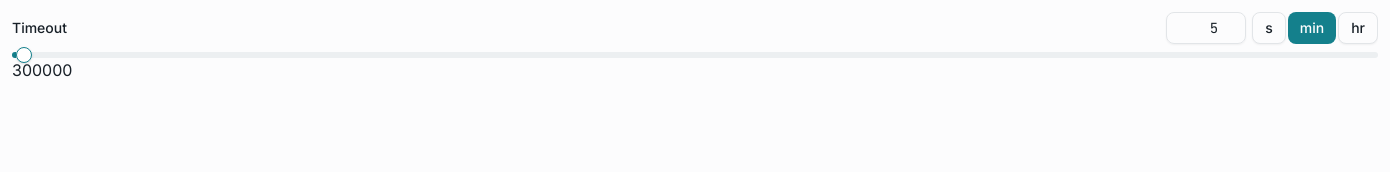
Scenario: DurationSliderField › opens a 5-minute value in minutes and converts when the unit changes
Check: the number field labelled "Timeout" holds "5", box [1166,12,1246,44]
Click the button named "Seconds": x=1269, y=28 [1252,12,1286,44]
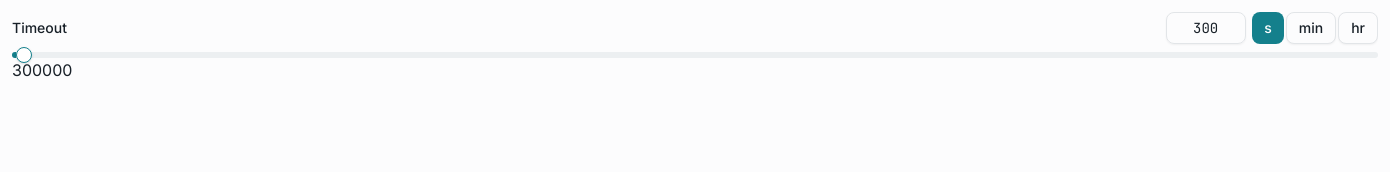
Check: the text "300000" is shown, box [12,60,72,80]
Check: the number field labelled "Timeout" holds "300", box [1166,12,1246,44]
Click the button with aria-label "Hours": x=1358, y=28 [1338,12,1378,44]
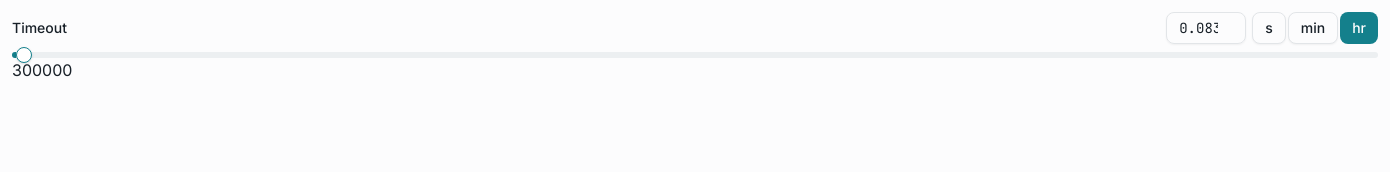
Check: the text "300000" is shown, box [12,60,72,80]
Check: the number field labelled "Timeout" holds "0.08333333333333333", box [1166,12,1246,44]
